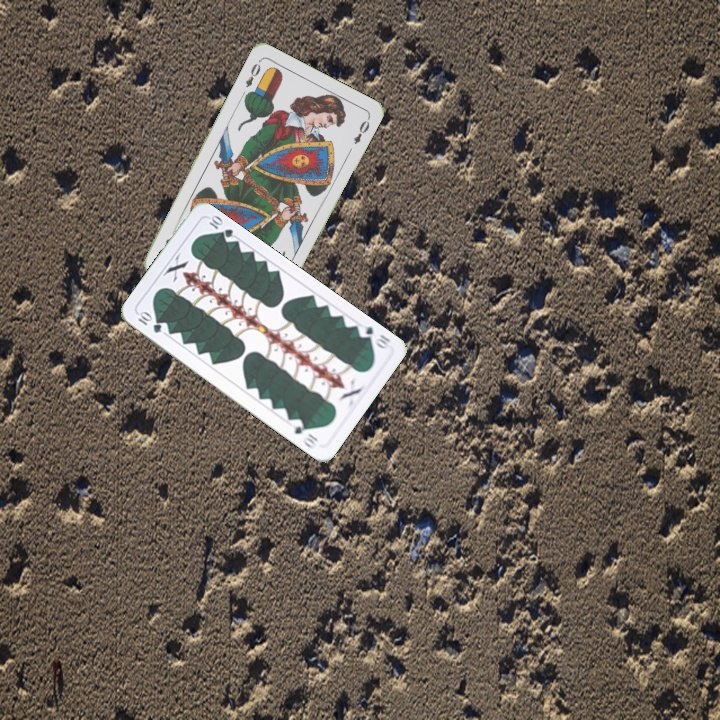EO: (241, 56, 263, 90)
G10: (354, 320, 394, 351), (133, 308, 164, 336)
